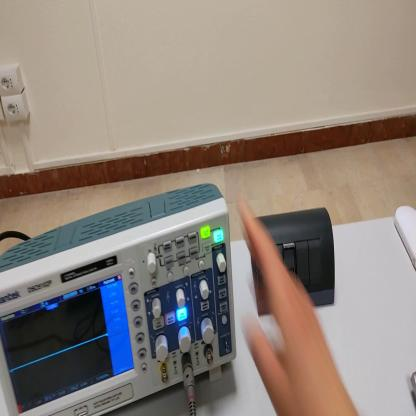hand: (237, 203, 352, 415)
oscilloscope: (2, 183, 237, 416)
